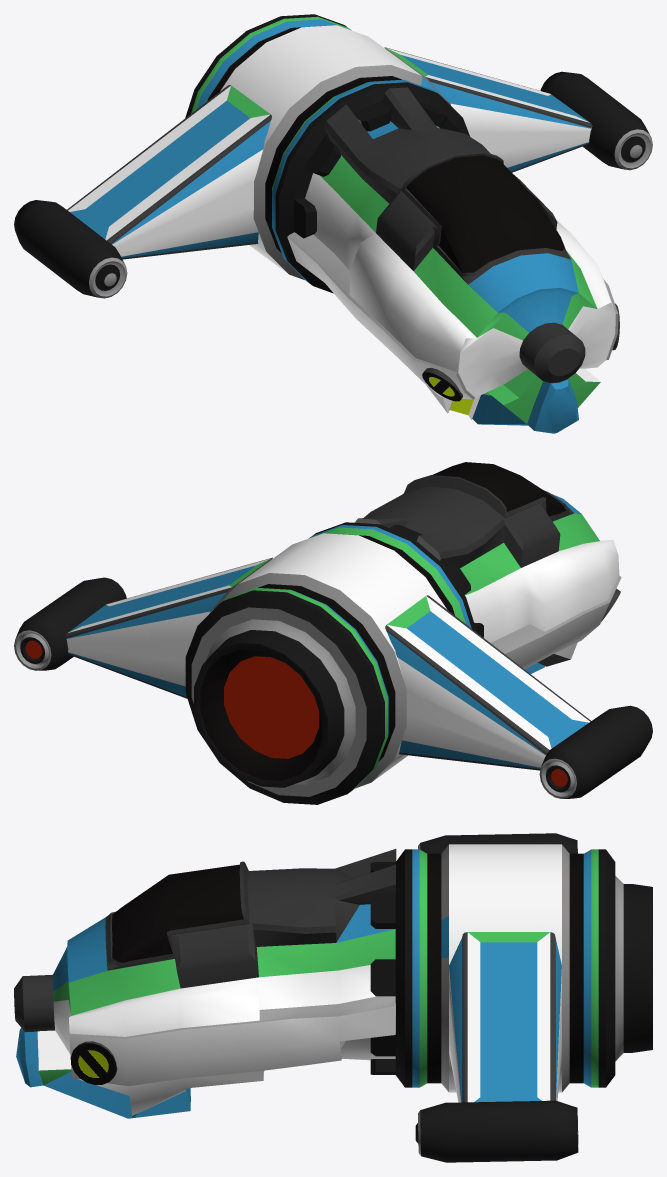
Rendered from ship04textured1.FBX.
3 views of the same model, one above another, from view 1: azimuth 30°, elevation 25°; view 2: azimuth 150°, elevation 25°; view 3: azimuth 270°, elevation 25° (orthographic). The views are drawn at different scales.
Parts seen in each view (by area): view 1: body, rightWing, leftWing, rightRocket, leftRocket, frontRightPatch; view 2: body, rightWing, leftWing, rightRocket, leftRocket; view 3: body, leftWing, leftRocket, rightRocket, frontLeftPatch.
Boxes of the visible parts, x1,y1,x2,y2 form: body: (185,14,618,433); rightWing: (67,85,271,259); leftWing: (384,47,592,172); rightRocket: (14,200,127,298); leftRocket: (540,71,652,170); frontRightPatch: (422,367,462,401); body: (185,462,621,804); rightWing: (385,595,590,770); leftWing: (65,557,272,698); rightRocket: (539,705,652,798); leftRocket: (14,577,126,670); body: (14,844,652,1118); leftWing: (449,932,561,1102); leftRocket: (415,1100,578,1162); rightRocket: (418,833,577,853); frontLeftPatch: (70,1041,117,1084).
Size of the model in its own units: 279 by 112 by 257.
